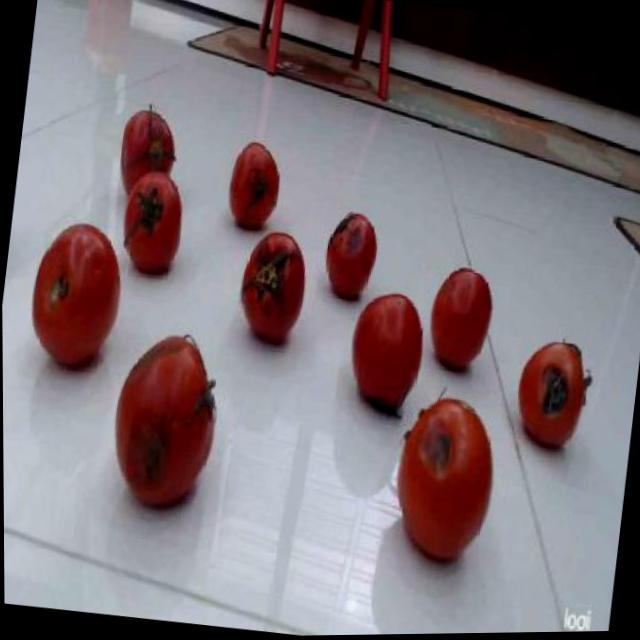tomato: (104, 329, 223, 515), (387, 406, 498, 567), (24, 218, 127, 374), (344, 291, 427, 420), (510, 338, 595, 454), (234, 228, 310, 347), (424, 265, 496, 374), (119, 169, 187, 277), (224, 139, 283, 234), (321, 210, 380, 303), (117, 106, 180, 185)
